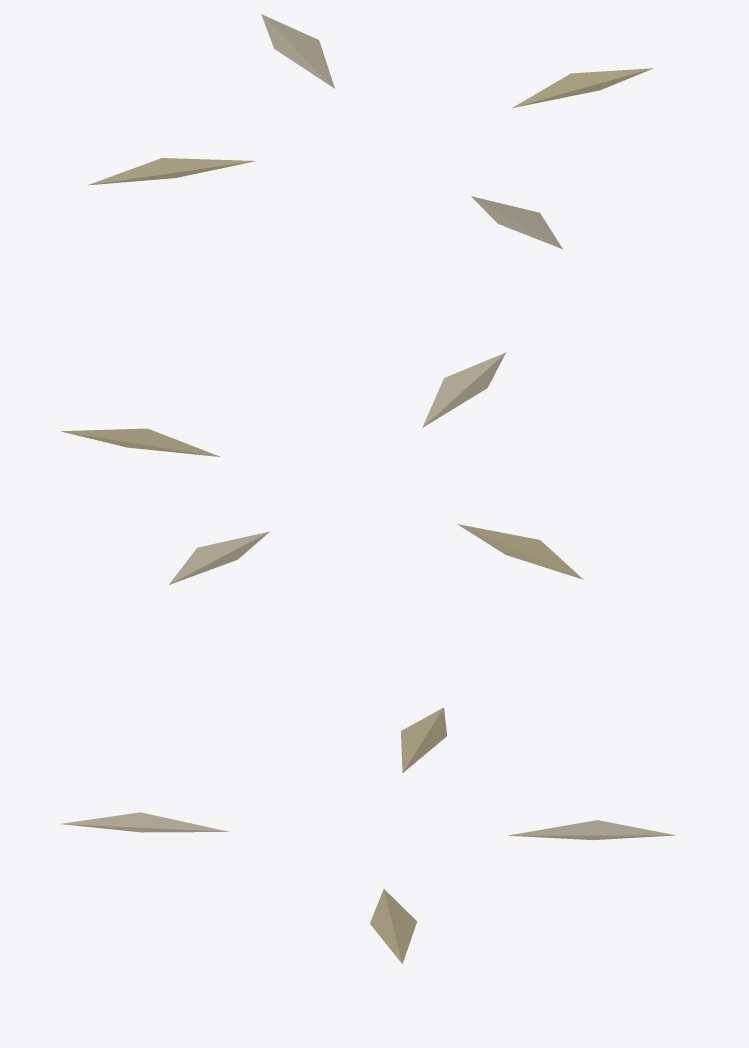
File: shui.pingpeng@withered__summer.glb
The picture shows the model from 3 angles, top to bottom: view 1: azimuth 30°, elevation 25°; view 2: azimuth 150°, elevation 25°; view 3: azimuth 270°, elevation 25°; orthographic projection. The views are drawn at different scales.
Parts seen in each view (by area): view 1: shui.pingpeng@withered__summer; view 2: shui.pingpeng@withered__summer; view 3: shui.pingpeng@withered__summer.
Boxes of the visible parts, x1,y1,x2,y2 form: shui.pingpeng@withered__summer: (88, 14, 653, 249); shui.pingpeng@withered__summer: (61, 352, 583, 584); shui.pingpeng@withered__summer: (61, 707, 675, 963).
Size of the model in its own units: 0.5399 by 0.043 by 0.4847.
